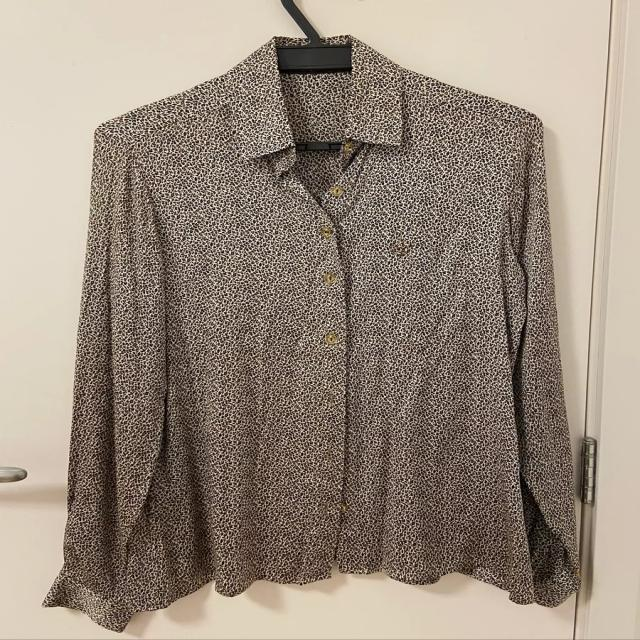long sleeve shirt: (39, 36, 585, 635)
